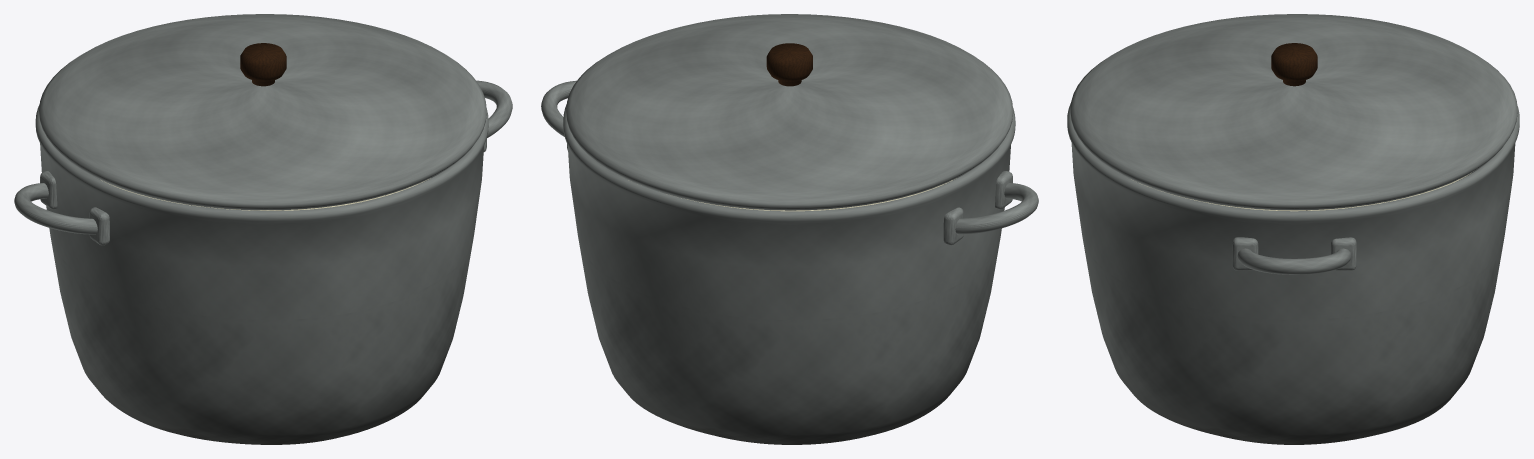
The model's file is SM_CookingPot.fbx.
The picture shows the model from 3 angles, left to right: view 1: azimuth 30°, elevation 25°; view 2: azimuth 150°, elevation 25°; view 3: azimuth 270°, elevation 25°; orthographic projection.
Parts seen in each view (by area): view 1: Pot_Body, Lid_Mesh, Handle_Left, Lid_Knob, Handle_Right; view 2: Pot_Body, Lid_Mesh, Handle_Left, Lid_Knob, Handle_Right; view 3: Pot_Body, Lid_Mesh, Handle_Right, Lid_Knob.
Boxes of the visible parts, bbox=[...] form: Pot_Body: bbox=[35, 104, 488, 444]; Lid_Mesh: bbox=[39, 14, 486, 210]; Handle_Left: bbox=[14, 171, 109, 245]; Lid_Knob: bbox=[240, 43, 286, 86]; Handle_Right: bbox=[476, 80, 512, 151]; Pot_Body: bbox=[563, 104, 1015, 444]; Lid_Mesh: bbox=[566, 14, 1013, 210]; Handle_Left: bbox=[943, 171, 1038, 245]; Lid_Knob: bbox=[766, 43, 812, 86]; Handle_Right: bbox=[541, 80, 576, 150]; Pot_Body: bbox=[1067, 103, 1519, 444]; Lid_Mesh: bbox=[1070, 14, 1517, 210]; Handle_Right: bbox=[1232, 237, 1356, 274]; Lid_Knob: bbox=[1271, 43, 1317, 86].
Size of the model in its own units: 0.624 by 0.408 by 0.506.
4 materials, 4 textured.
